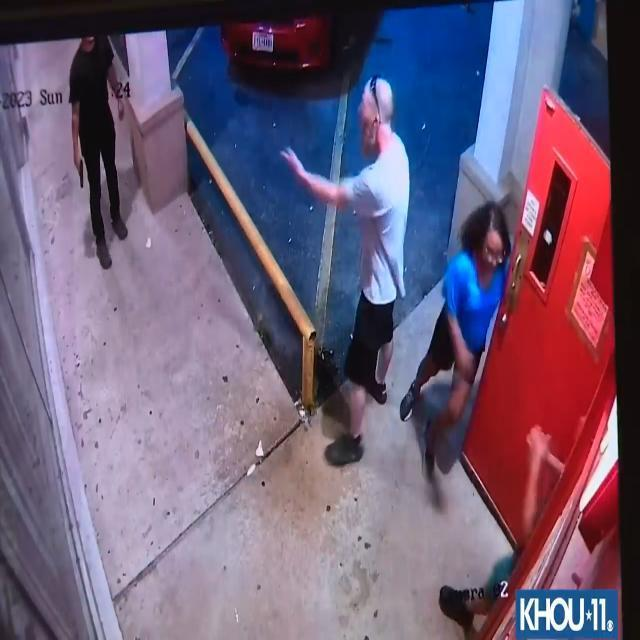Handgun: (72, 156, 88, 194)
